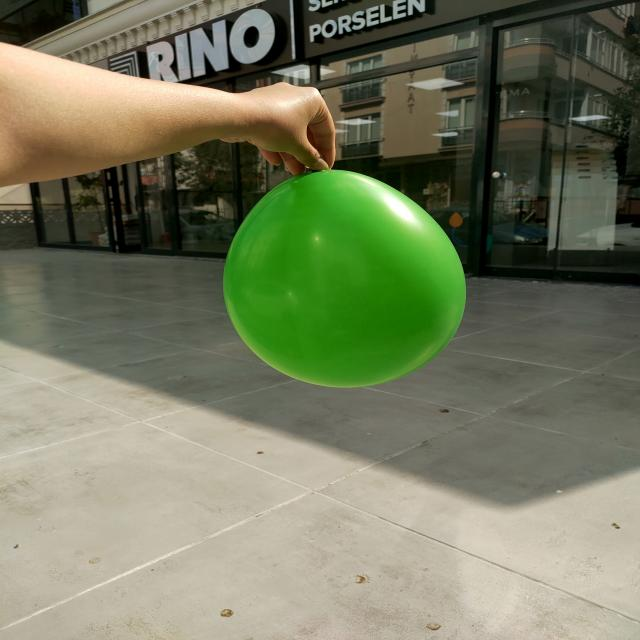green: (225, 168, 468, 391)
